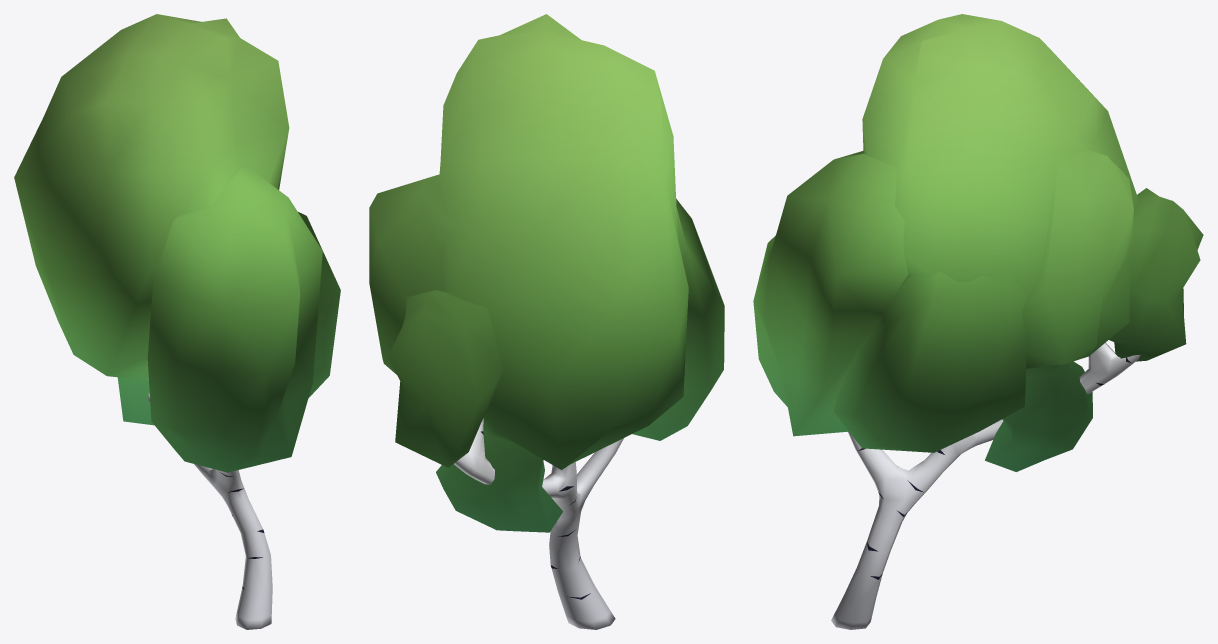
File: BirchTree_1.fbx
The picture shows the model from 3 angles, left to right: view 1: azimuth 30°, elevation 25°; view 2: azimuth 150°, elevation 25°; view 3: azimuth 270°, elevation 25°; orthographic projection. The views are drawn at different scales.
Parts seen in each view (by area): view 1: BirchTree_1.001, BirchTree_1; view 2: BirchTree_1.001, BirchTree_1; view 3: BirchTree_1.001, BirchTree_1.
Boxes of the visible parts, x1,y1,x2,y2 form: BirchTree_1.001: [14, 14, 340, 472]; BirchTree_1: [148, 393, 272, 629]; BirchTree_1.001: [369, 14, 724, 532]; BirchTree_1: [454, 418, 623, 629]; BirchTree_1.001: [753, 14, 1203, 471]; BirchTree_1: [831, 342, 1140, 629].
Bounding box in the file's own units: 1.7 × 3.57 × 2.48.
